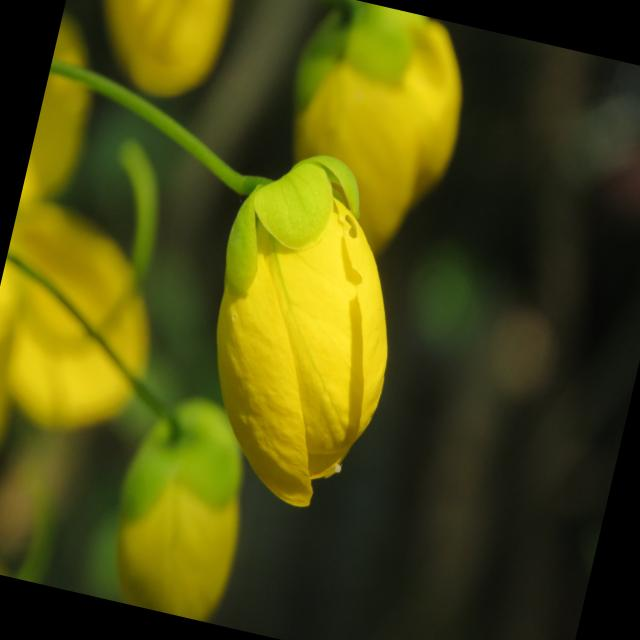Amaltas: (0, 0, 510, 547)
